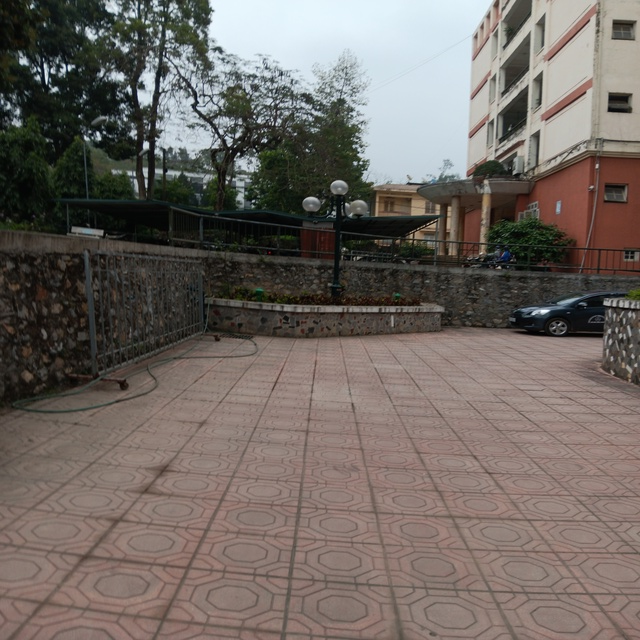cotden: (300, 176, 380, 302)
